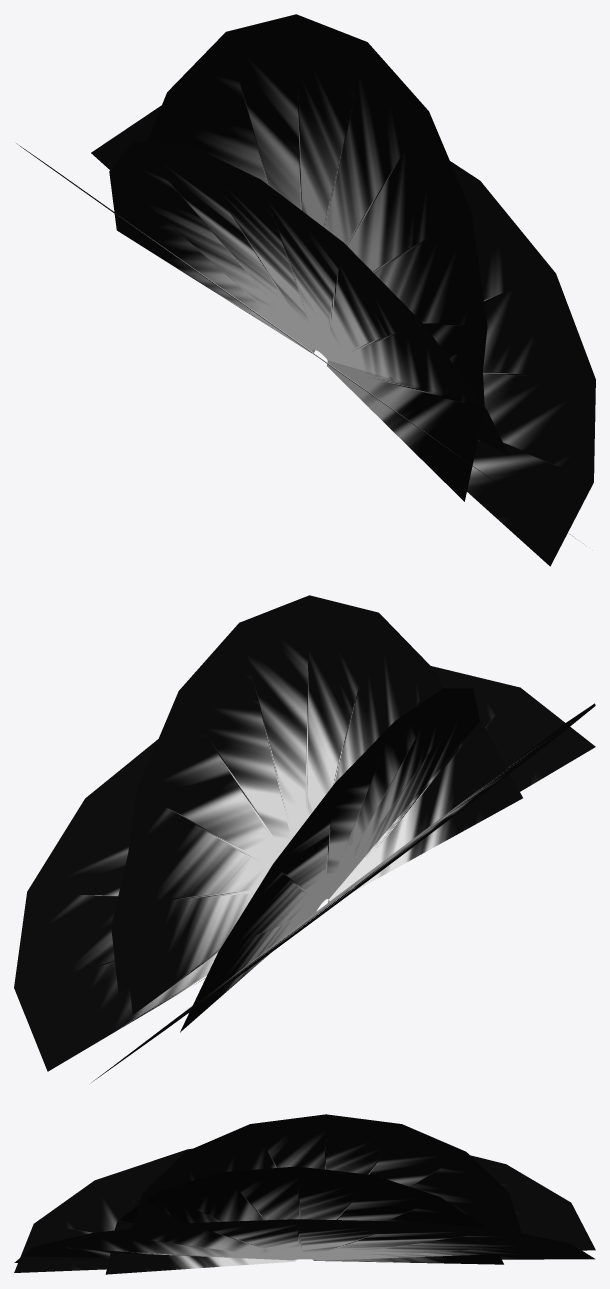
File: Slash_efe.FBX
The picture shows the model from 3 angles, top to bottom: view 1: azimuth 30°, elevation 25°; view 2: azimuth 150°, elevation 25°; view 3: azimuth 270°, elevation 25°; orthographic projection. The views are drawn at different scales.
Parts seen in each view (by area): view 1: Cylinder003, Cylinder002, Cylinder004, Cylinder001, Cylinder005; view 2: Cylinder003, Cylinder004, Cylinder002, Cylinder001, Cylinder005; view 3: Cylinder003, Cylinder004, Cylinder001, Cylinder005, Cylinder002.
Part boxes in pixels (left/top/right/bottom): Cylinder003: left=147, top=14, right=487, bottom=382; Cylinder002: left=109, top=141, right=508, bottom=454; Cylinder004: left=91, top=105, right=595, bottom=566; Cylinder001: left=312, top=342, right=484, bottom=501; Cylinder005: left=16, top=143, right=575, bottom=538; Cylinder003: left=121, top=595, right=442, bottom=1014; Cylinder004: left=14, top=666, right=595, bottom=1071; Cylinder002: left=180, top=688, right=479, bottom=1032; Cylinder001: left=111, top=690, right=522, bottom=992; Cylinder005: left=91, top=703, right=595, bottom=1082; Cylinder003: left=132, top=1114, right=521, bottom=1233; Cylinder004: left=14, top=1219, right=594, bottom=1262; Cylinder001: left=114, top=1166, right=503, bottom=1264; Cylinder005: left=14, top=1148, right=595, bottom=1272; Cylinder002: left=105, top=1173, right=296, bottom=1274.
Bounding box in the file's own units: 127 × 121 × 367.
